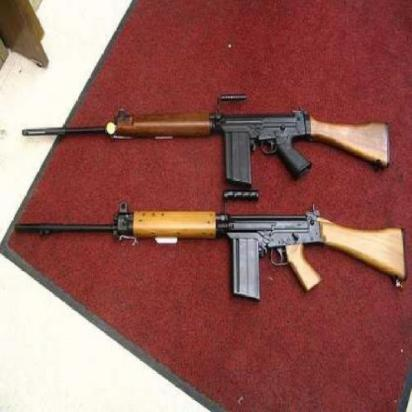Gun: (8, 90, 396, 199), (8, 201, 411, 300)
